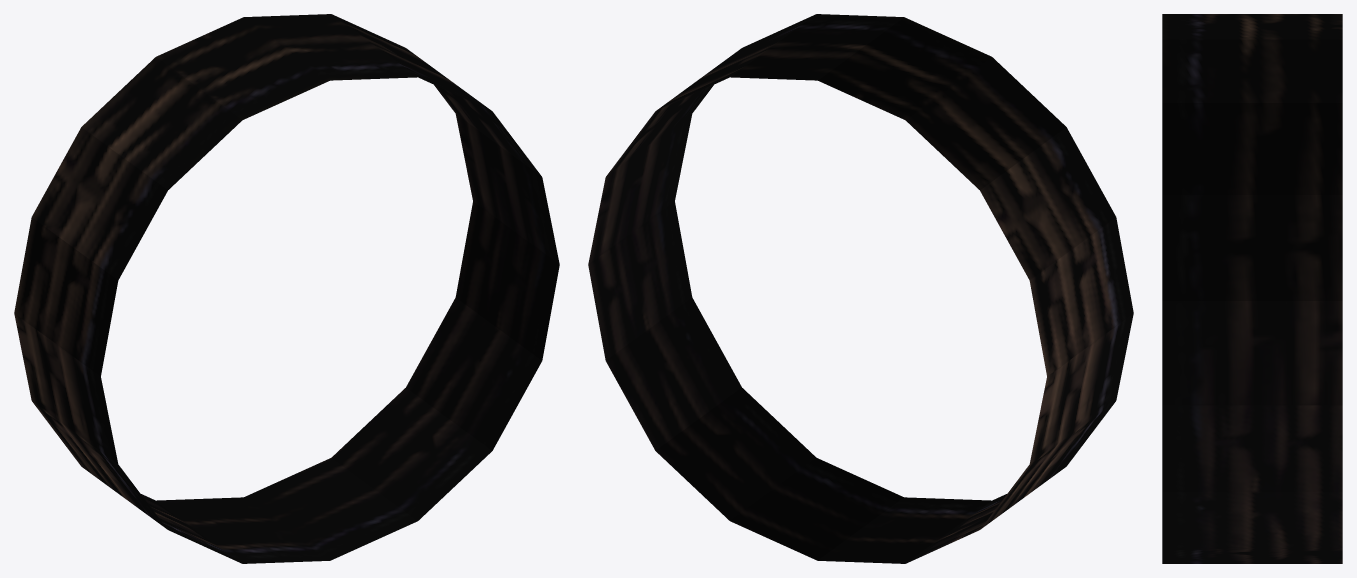
File: collide_Column0.obj
The picture shows the model from 3 angles, left to right: view 1: azimuth 30°, elevation 25°; view 2: azimuth 150°, elevation 25°; view 3: azimuth 270°, elevation 25°; orthographic projection. The views are drawn at different scales.
Visible parts, largest first — view 1: collide_Column0_Cylinder.001; view 2: collide_Column0_Cylinder.001; view 3: collide_Column0_Cylinder.001.
Boxes of the visible parts, x1,y1,x2,y2 form: collide_Column0_Cylinder.001: (14,14,559,563); collide_Column0_Cylinder.001: (588,14,1133,563); collide_Column0_Cylinder.001: (1162,14,1342,563).
Bounding box in the file's own units: 136 × 136 × 44.53.
